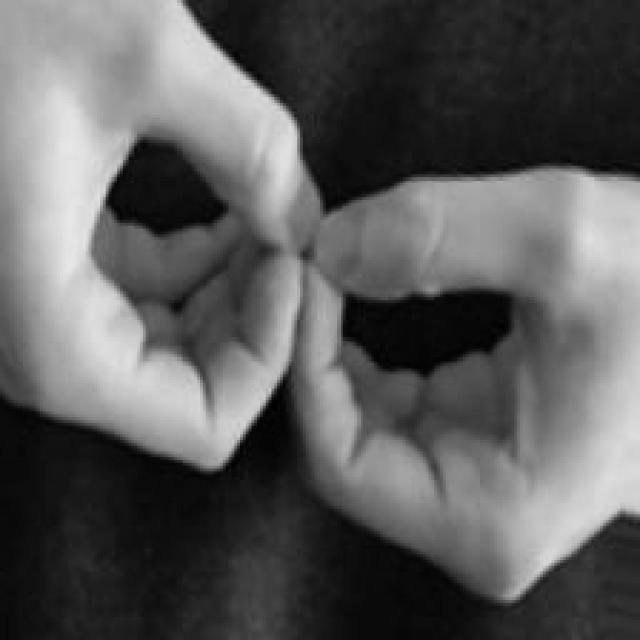B: (1, 3, 640, 606)
